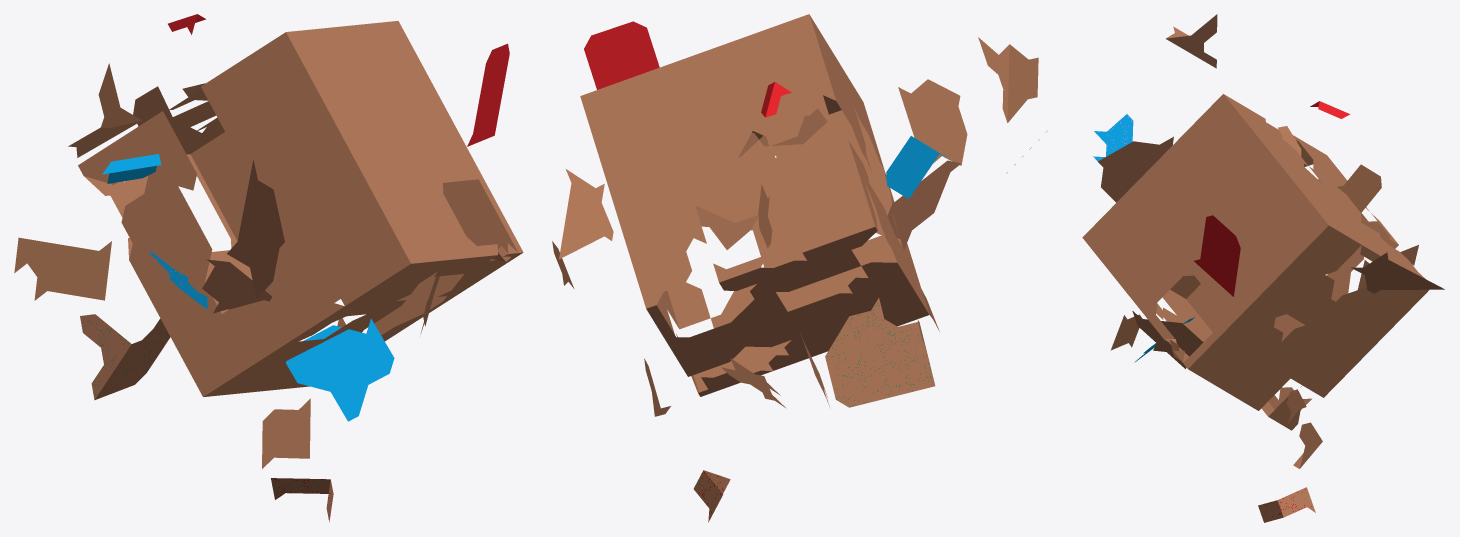
Rendered from explode_000031.obj.
The picture shows the model from 3 angles, left to right: view 1: azimuth 30°, elevation 25°; view 2: azimuth 150°, elevation 25°; view 3: azimuth 270°, elevation 25°; orthographic projection. The views are drawn at different scales.
Visible parts, largest first — view 1: Cube_Cube.001; view 2: Cube_Cube.001; view 3: Cube_Cube.001.
Part boxes in pixels (x1=…): Cube_Cube.001: x1=14, y1=14, x2=523, y2=521; Cube_Cube.001: x1=552, y1=14, x2=1046, y2=522; Cube_Cube.001: x1=1082, y1=14, x2=1444, y2=522.
Size of the model in its own units: 4.07 by 4.48 by 3.55.
